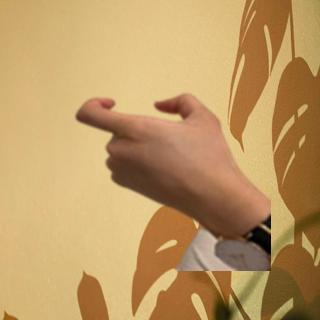HATE: (65, 87, 240, 214)
